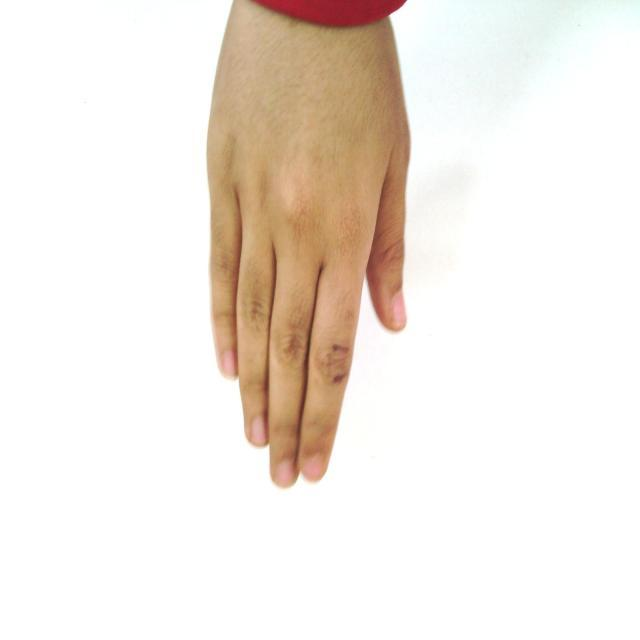Fingernail: (275, 462, 294, 486), (393, 293, 406, 328), (303, 456, 321, 481), (252, 417, 267, 445), (222, 351, 235, 377)
